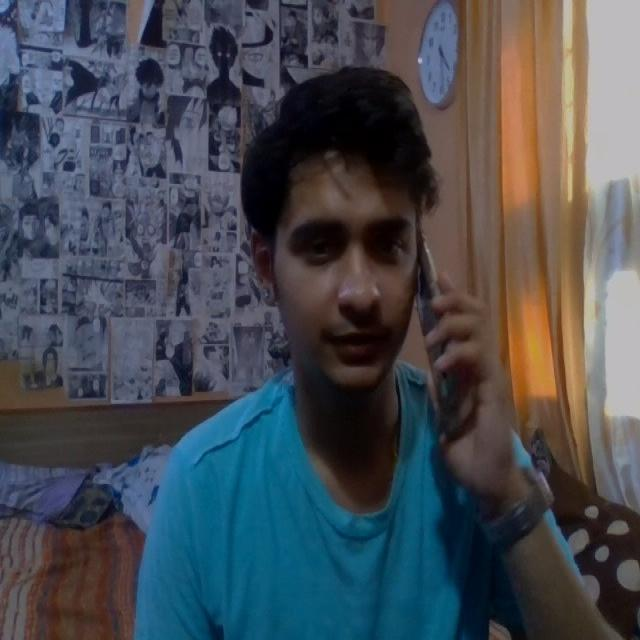oncall: (219, 52, 544, 516)
phone: (400, 217, 481, 448)
